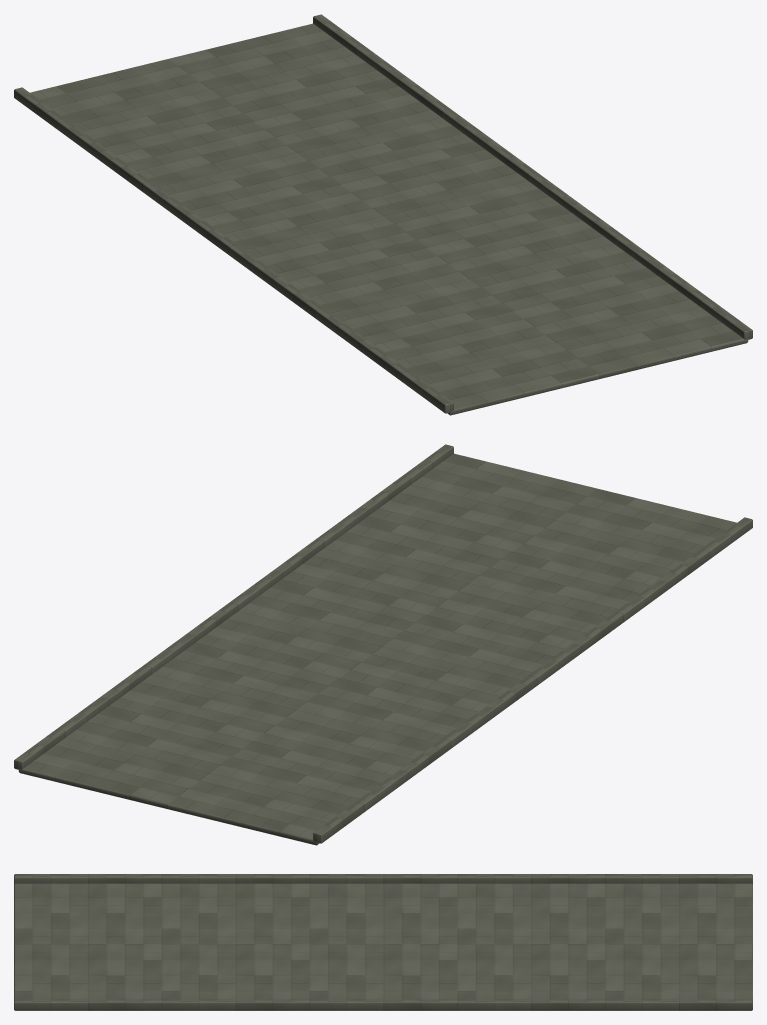
File: port_street.glb
3 renders of one model, top to bottom at view 1: azimuth 30°, elevation 25°; view 2: azimuth 150°, elevation 25°; view 3: azimuth 270°, elevation 25°, orthographic. The views are drawn at different scales.
Visible parts, largest first — view 1: base__art06_Stone; view 2: base__art06_Stone; view 3: base__art06_Stone.
Boxes of the visible parts, left/top/right/bottom form: base__art06_Stone: left=14, top=14, right=752, bottom=415; base__art06_Stone: left=14, top=444, right=752, bottom=845; base__art06_Stone: left=14, top=874, right=752, bottom=1010.
Size of the model in its own units: 8.25 by 0.32 by 20.
Materials: 1 (1 with a texture image).
